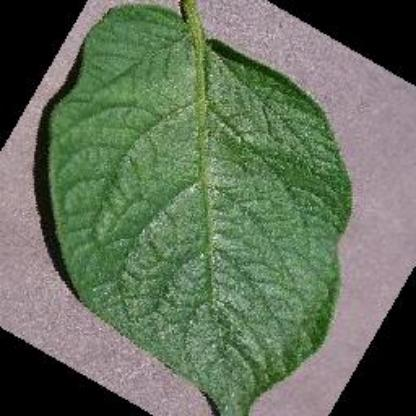Healthy-plant: (44, 0, 354, 416)
